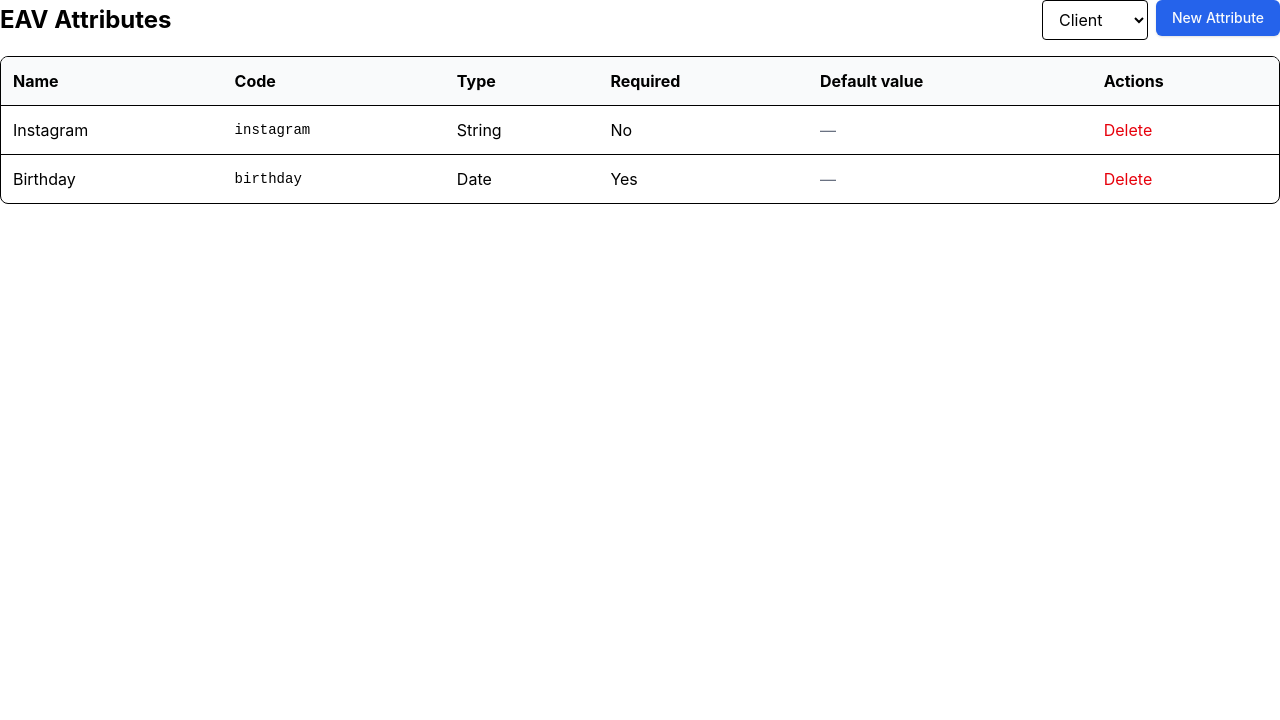
Test: EavAttributeList navigation regression › pre-selects the active entity tab as entity_code in the create dialog
Switch the list filter to "product"
Select "Product" in the dropdown at point(1095, 20), box left=1042, top=0, right=1148, bottom=40
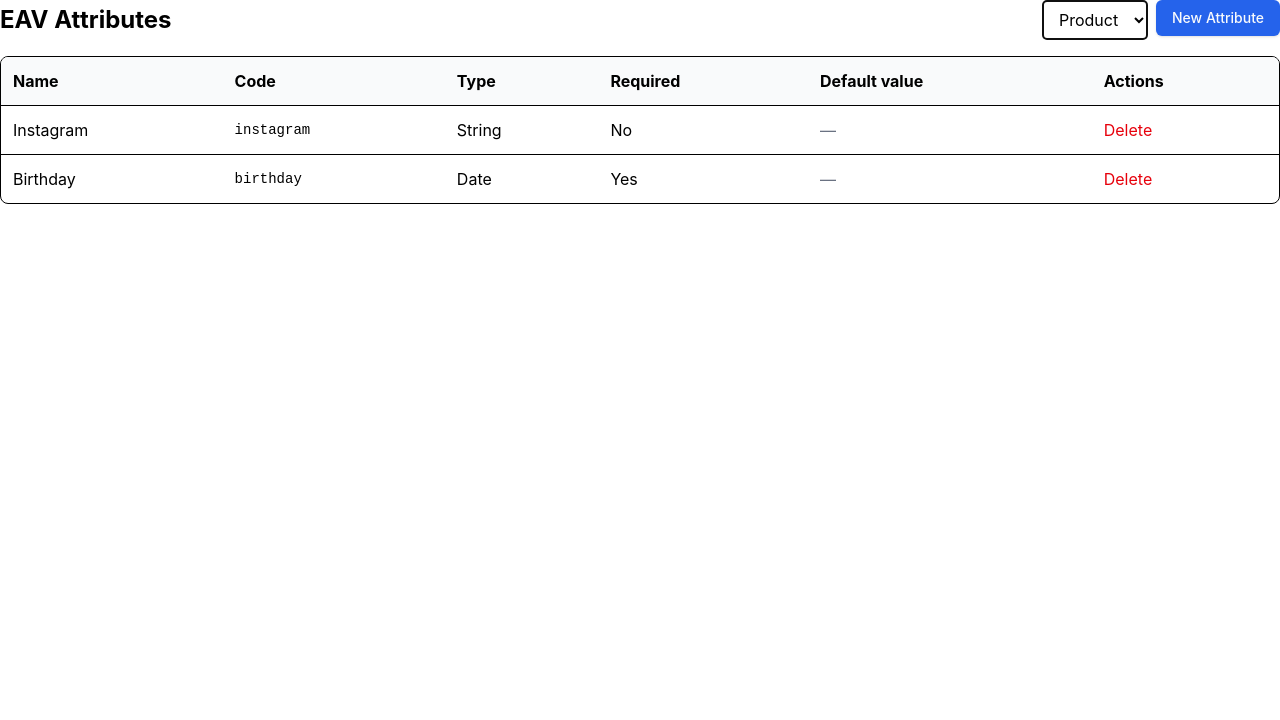
Open the create dialog
Click the button "New Attribute" at point(1218, 18), box left=1156, top=0, right=1279, bottom=36
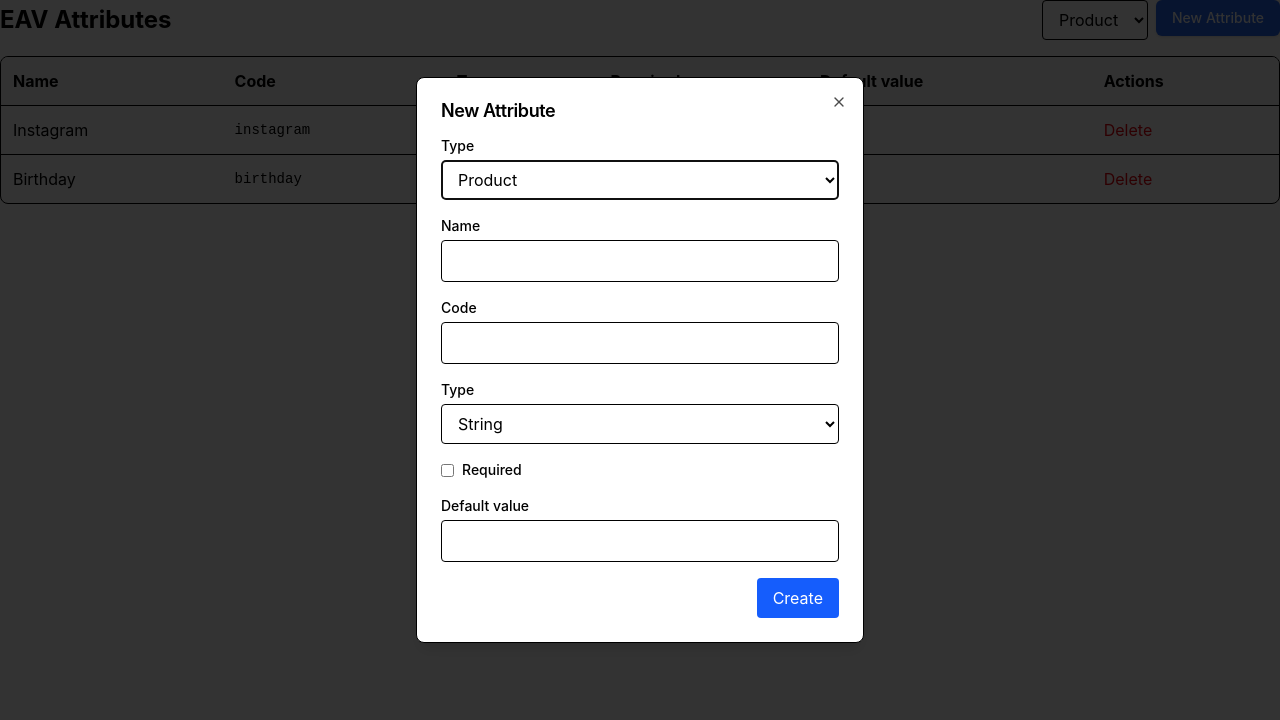
Now the 1st dropdown labelled "Type" shows "Product", box left=441, top=160, right=839, bottom=200
